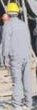boots: (0, 96, 17, 110), (0, 98, 13, 110)
gloves: (0, 97, 15, 110), (0, 98, 13, 110)
hard-hat: (0, 0, 18, 45)
ppe-suit: (0, 53, 18, 110)
